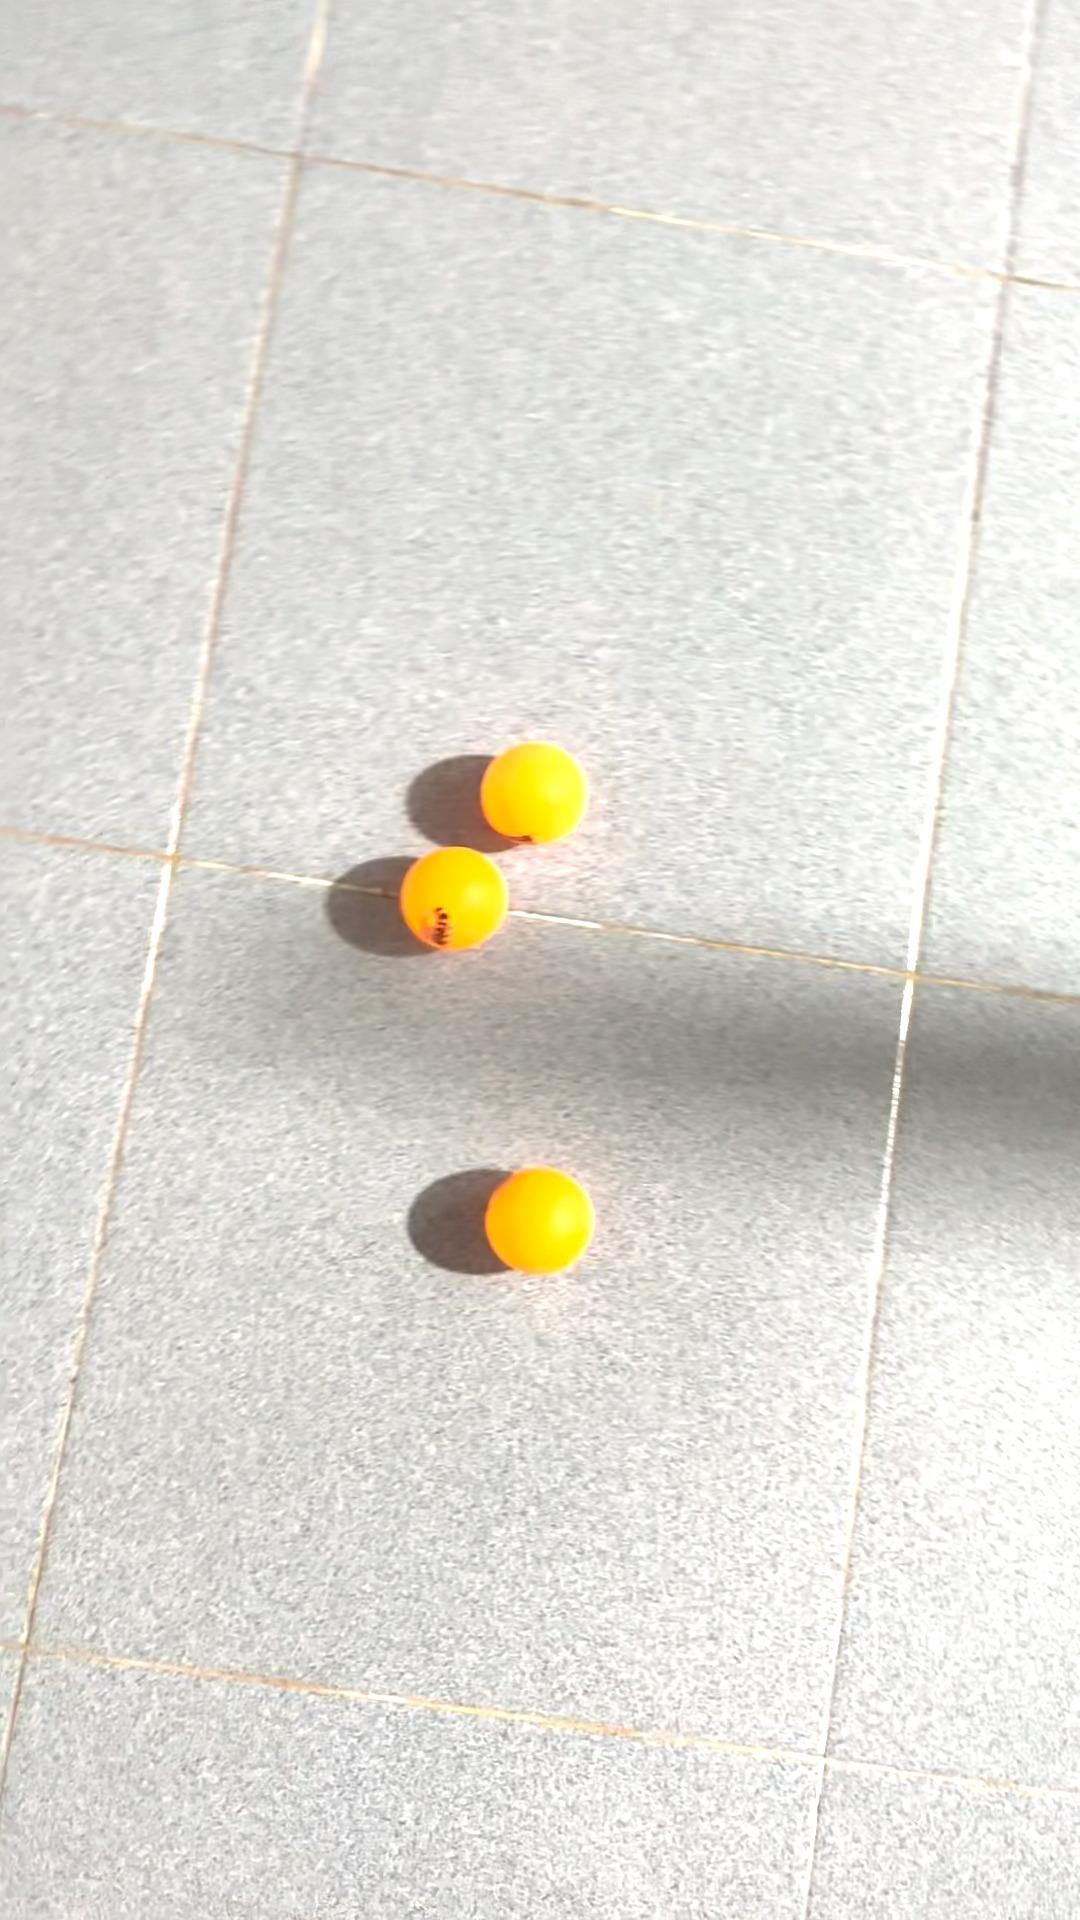oball: (392, 844, 542, 964), (477, 1158, 607, 1291), (481, 735, 601, 855)
